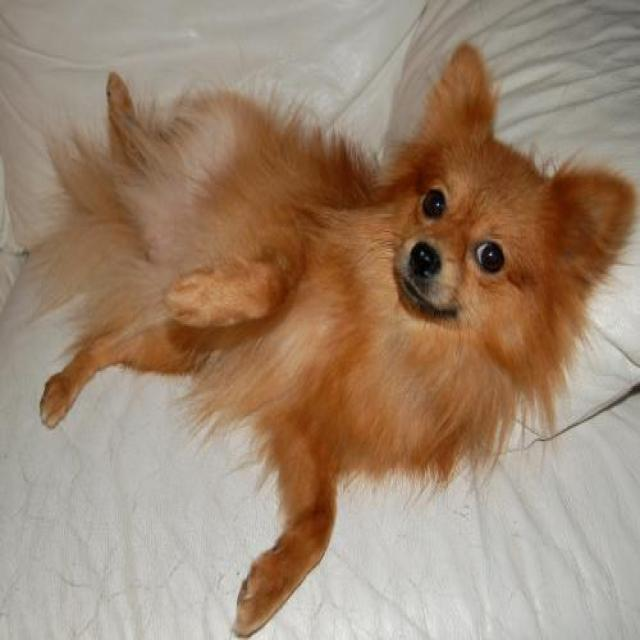Dogs: (1, 40, 638, 638)
